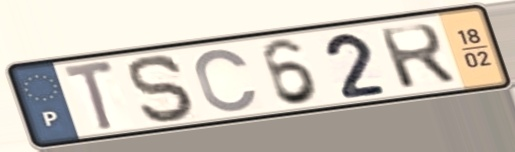2: (319, 27, 395, 104)
6: (260, 36, 320, 108)
C: (191, 46, 262, 114)
R: (374, 21, 461, 92)
S: (126, 52, 201, 125)
T: (59, 57, 119, 135)
